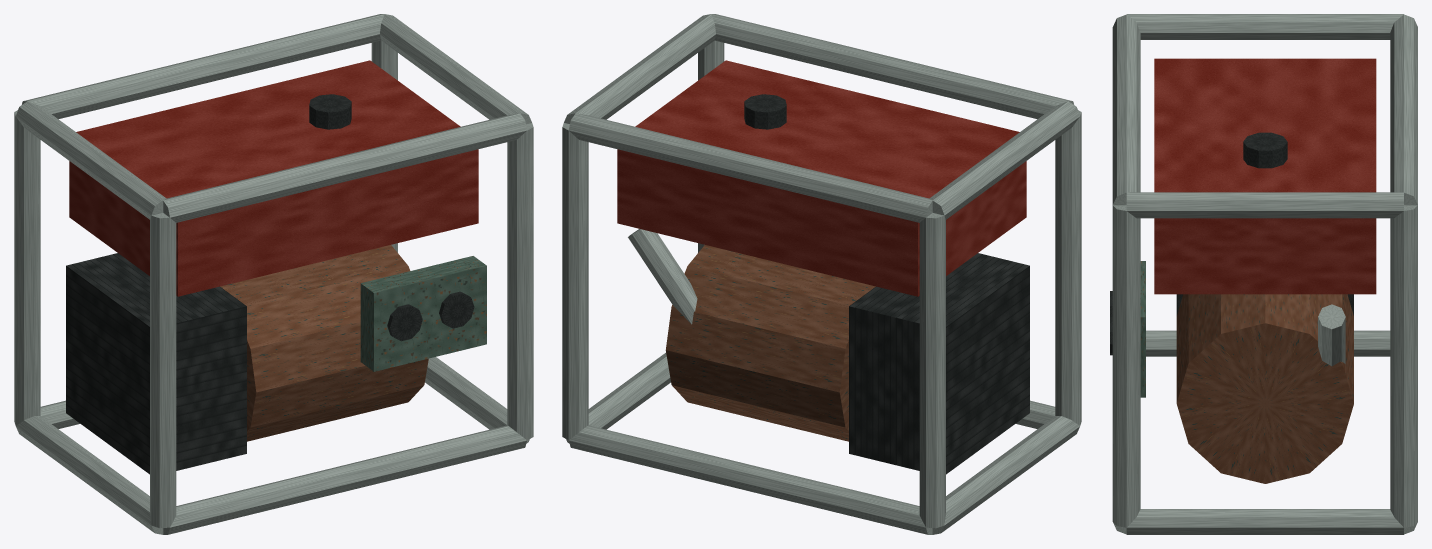
File: Generator.obj
3 views of the same model, side by side, from view 1: azimuth 30°, elevation 25°; view 2: azimuth 150°, elevation 25°; view 3: azimuth 270°, elevation 25° (orthographic). The views are drawn at different scales.
Parts seen in each view (by area): view 1: Generator; view 2: Generator; view 3: Generator.
Part boxes in pixels (x1=…): Generator: x1=14, y1=14, x2=533, y2=534; Generator: x1=562, y1=14, x2=1081, y2=534; Generator: x1=1110, y1=14, x2=1417, y2=534.
Size of the model in its own units: 0.81 by 0.68 by 0.555.
Materials: 5 (5 with a texture image).
